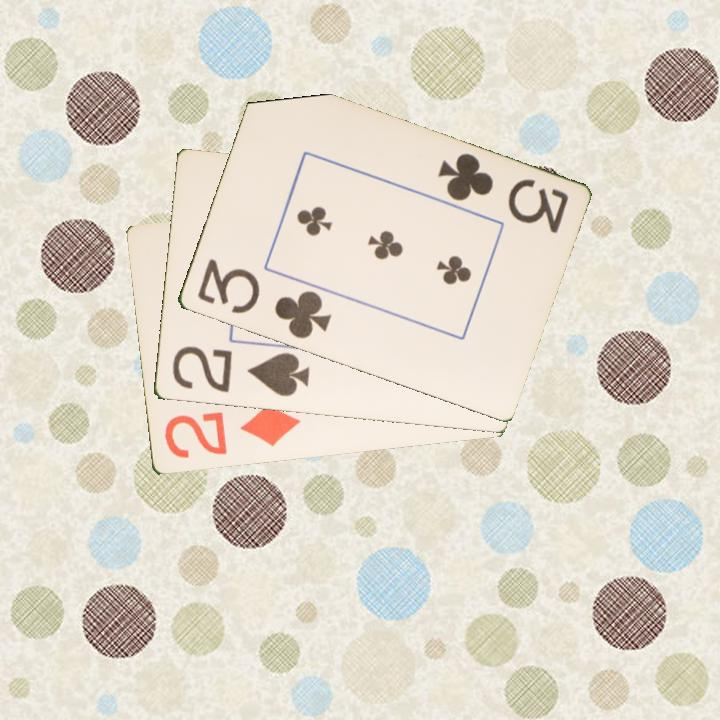2d: (160, 401, 303, 462)
2s: (168, 342, 312, 400)
3c: (193, 255, 334, 342), (433, 149, 571, 237)
